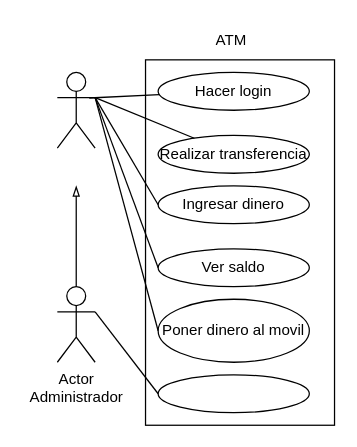
Image size: 357x447. Some labels were removed from this diagram. Here are the shapes that lost their labels. From the top down, the centre of each, then its label:
the point at 75,109: Actor Cliente bancario
the point at 233,393: Configurar cajero
